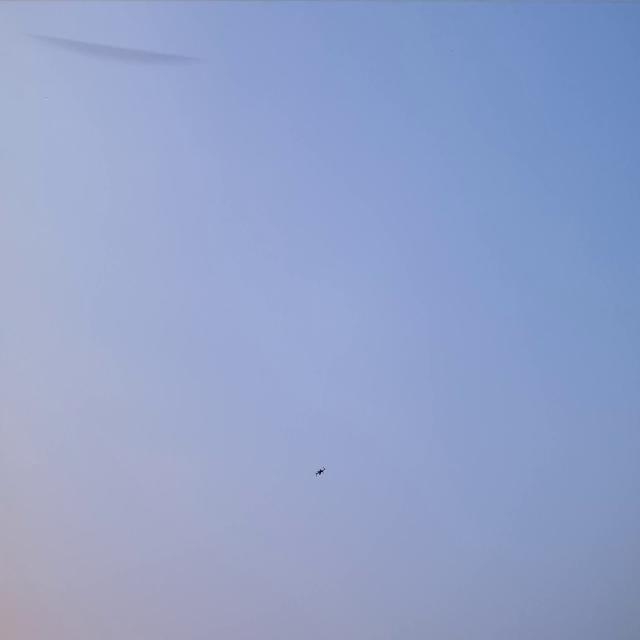UAV: (314, 464, 326, 478)
